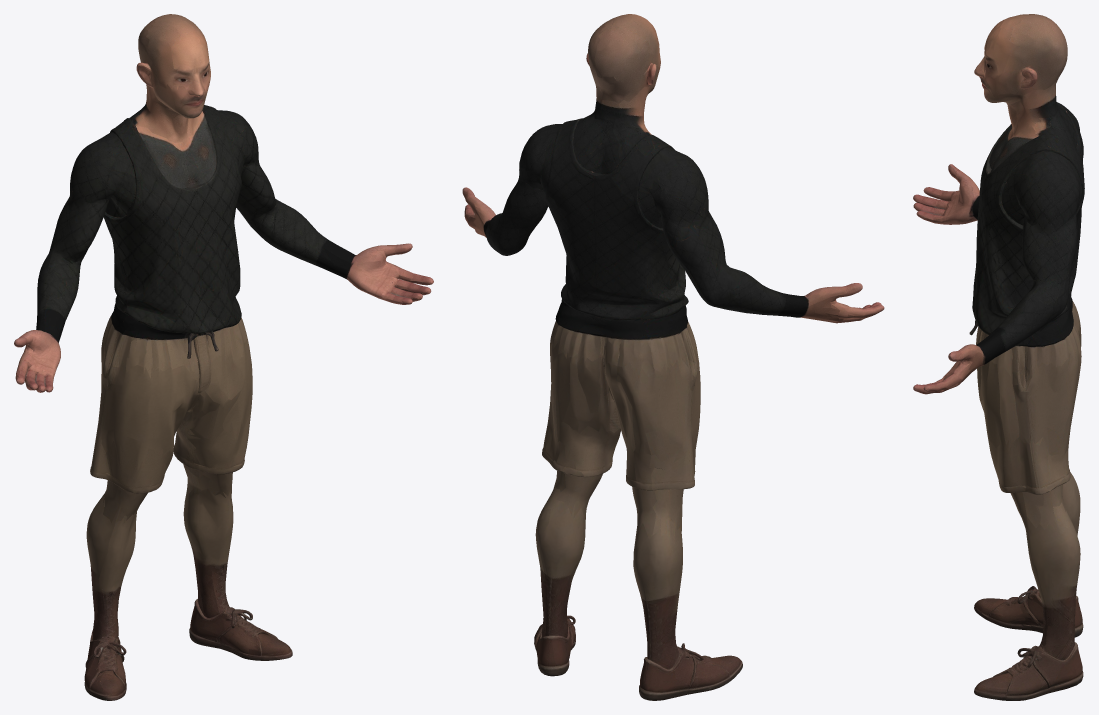
Rendered from rt_scout.glb.
3 renders of one model, left to right at view 1: azimuth 30°, elevation 25°; view 2: azimuth 150°, elevation 25°; view 3: azimuth 270°, elevation 25°, orthographic.
Size of the model in its own units: 1.28 by 1.9 by 0.461.
1 material, 1 textured.
